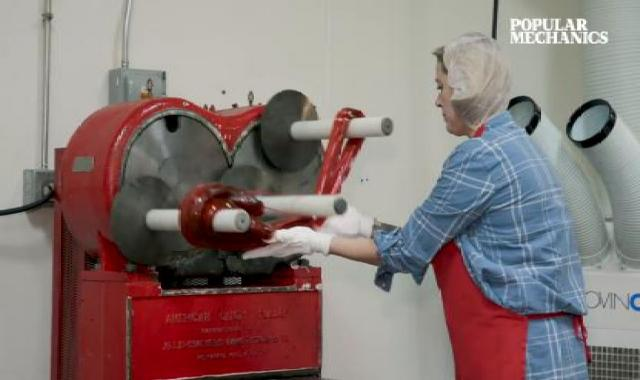hairnet: (432, 30, 525, 132)
